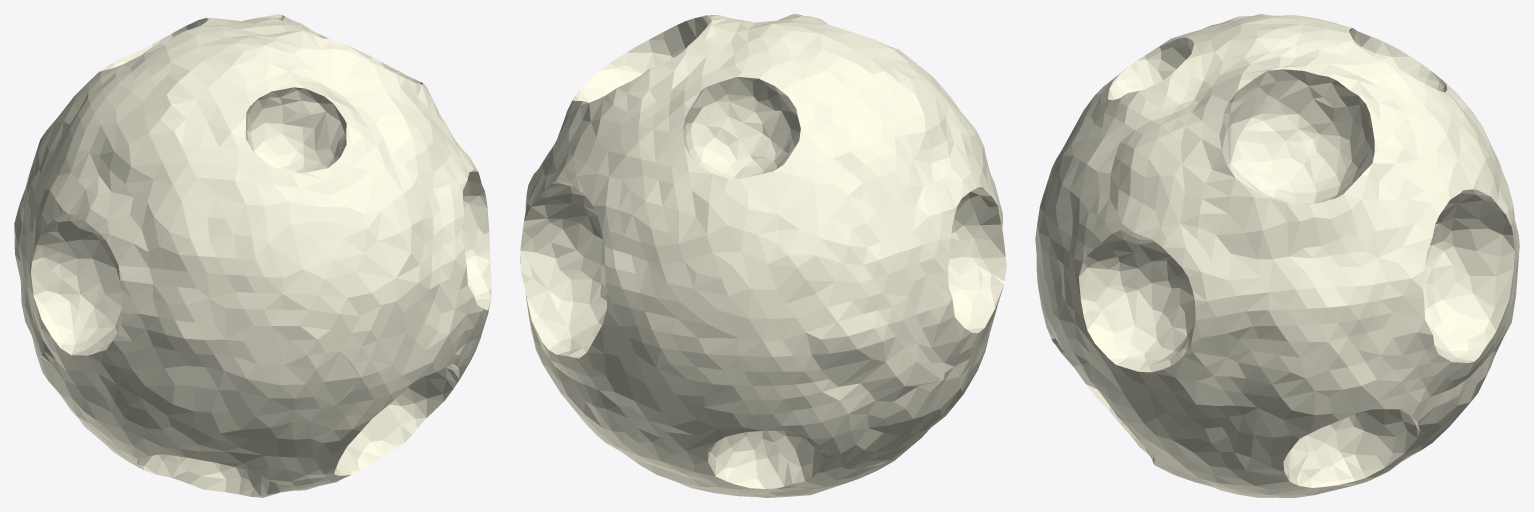
File: Planet_19.glb
3 renders of one model, left to right at view 1: azimuth 30°, elevation 25°; view 2: azimuth 150°, elevation 25°; view 3: azimuth 270°, elevation 25°, orthographic.
Parts seen in each view (by area): view 1: Planet_19; view 2: Planet_19; view 3: Planet_19.
Part boxes in pixels (<box>): Planet_19: <box>14,14,491,497</box>; Planet_19: <box>520,14,1006,497</box>; Planet_19: <box>1035,14,1519,497</box>.
Size of the model in its own units: 19.81 by 20.01 by 20.08.
1 material, 1 textured.
